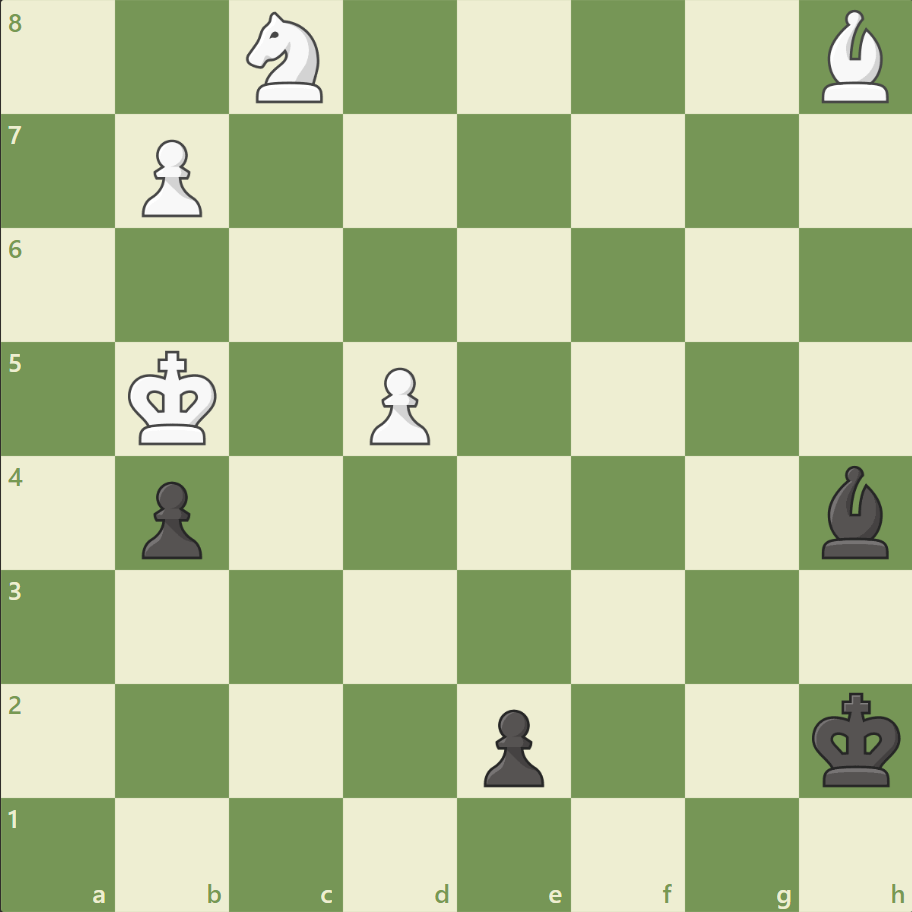B: (812, 6, 896, 109)
K: (124, 344, 224, 452)
N: (238, 7, 335, 110)
P: (133, 132, 208, 223), (361, 359, 435, 450)
b: (812, 460, 896, 563)
k: (806, 685, 906, 793)
p: (133, 473, 208, 564), (474, 700, 549, 791)
